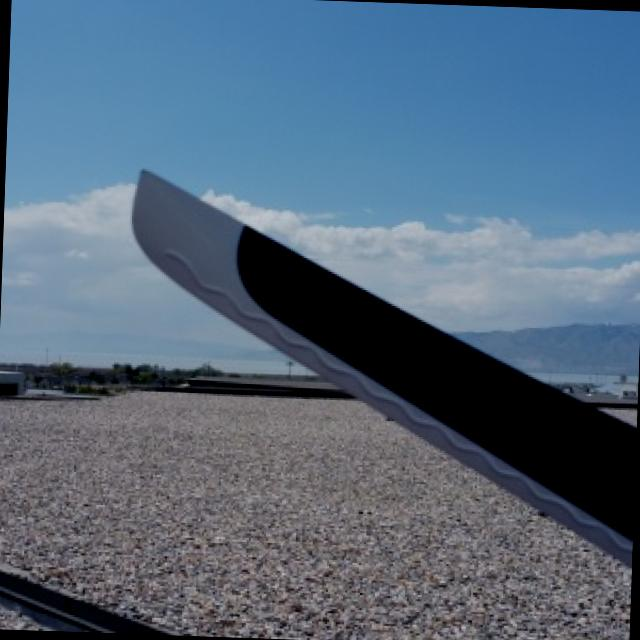healthy: (131, 173, 634, 561)
